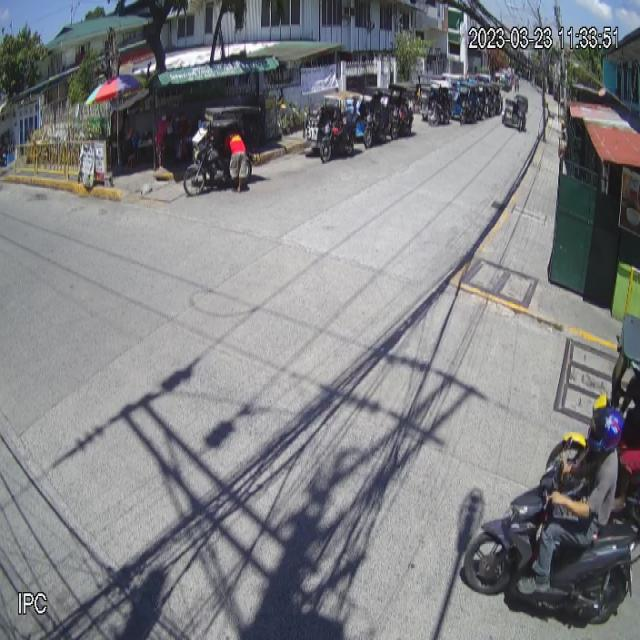Motorcycle: (462, 436, 640, 624)
